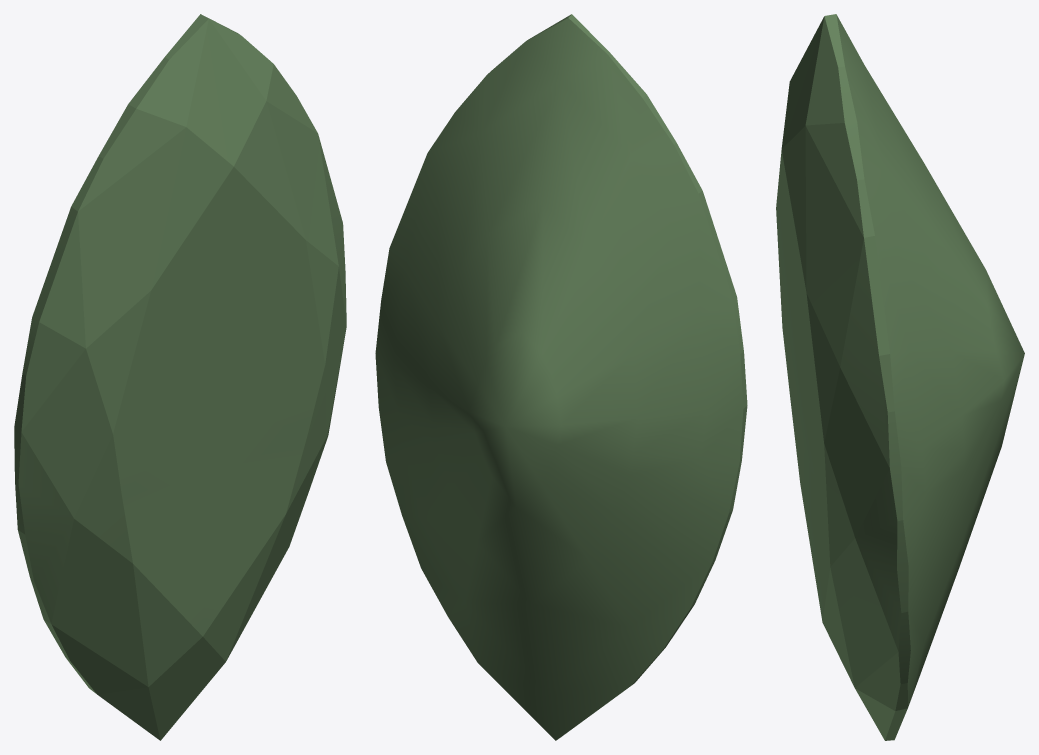
Rendered from TR1_8shapes_Marquise_Classic_Stone.001 3.glb.
3 renders of one model, left to right at view 1: azimuth 30°, elevation 25°; view 2: azimuth 150°, elevation 25°; view 3: azimuth 270°, elevation 25°, orthographic. The views are drawn at different scales.
Parts seen in each view (by area): view 1: TR1_8shapes_Marquise_Classic_Stone.001; view 2: TR1_8shapes_Marquise_Classic_Stone.001; view 3: TR1_8shapes_Marquise_Classic_Stone.001.
Boxes of the visible parts, bbox=[...] form: TR1_8shapes_Marquise_Classic_Stone.001: bbox=[14, 14, 346, 740]; TR1_8shapes_Marquise_Classic_Stone.001: bbox=[375, 14, 747, 740]; TR1_8shapes_Marquise_Classic_Stone.001: bbox=[776, 14, 1024, 740].
Size of the model in its own units: 0.3773 by 0.7441 by 0.2285.
